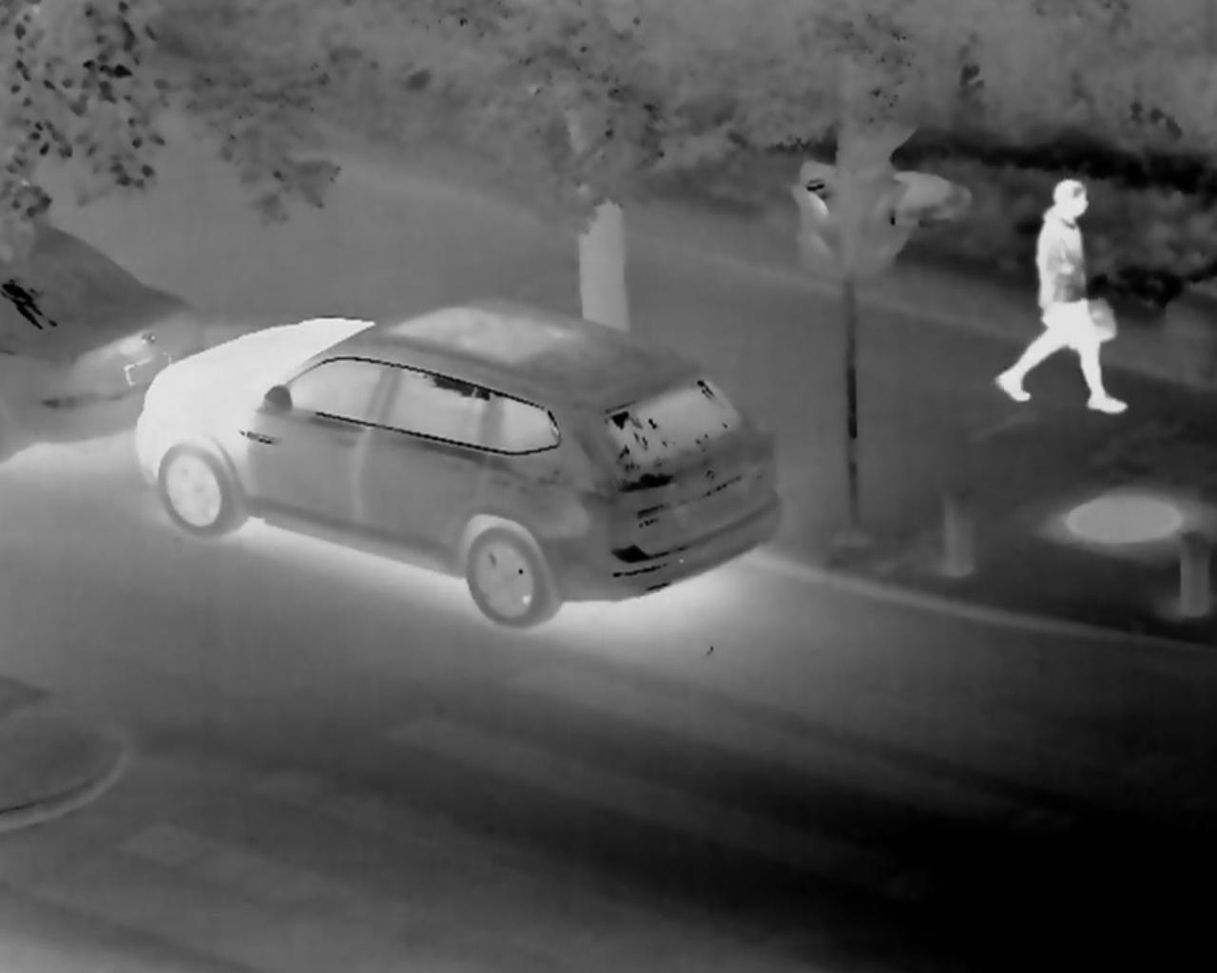person: (996, 171, 1130, 421)
